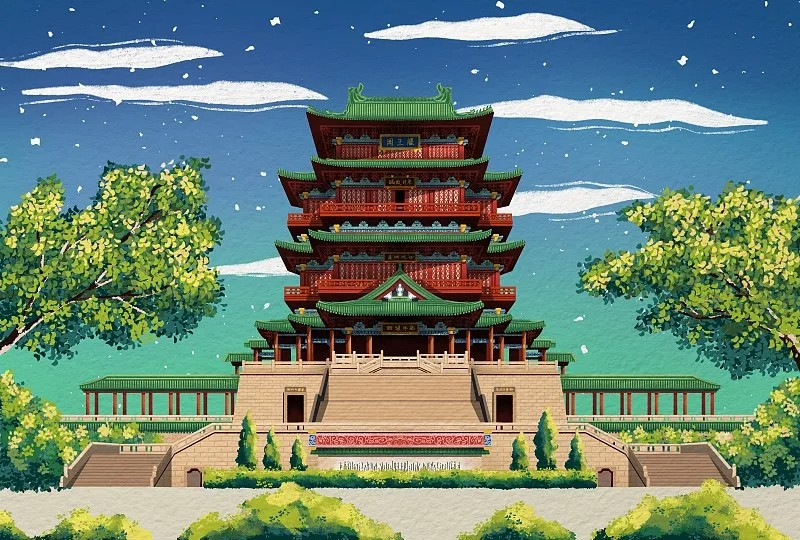Teng: (226, 83, 575, 364)
